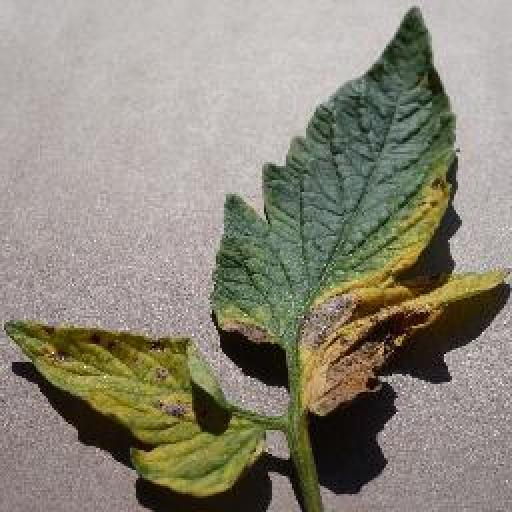Early Blight: (10, 4, 512, 499)
